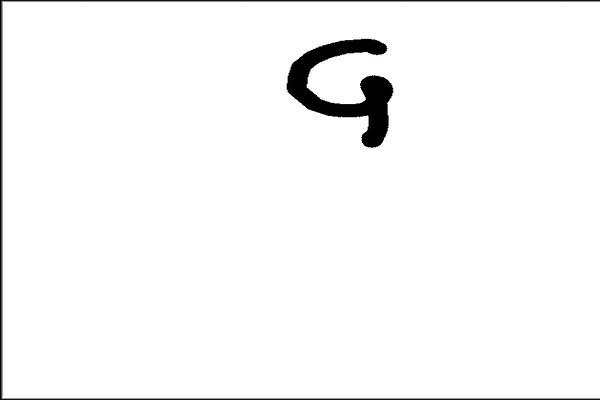G: (283, 33, 398, 153)
